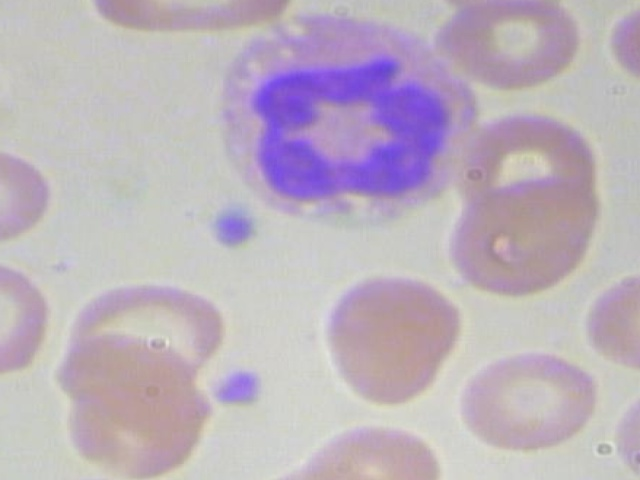Platelets: (194, 199, 270, 257), (203, 366, 261, 406), (57, 474, 117, 480)
RBC: (309, 265, 473, 409), (57, 332, 216, 480), (448, 174, 608, 302), (452, 344, 610, 454), (426, 0, 588, 96), (0, 254, 59, 380), (577, 265, 640, 374), (0, 141, 56, 251), (614, 378, 640, 480), (620, 93, 640, 219)
WBC: (207, 5, 482, 236)
